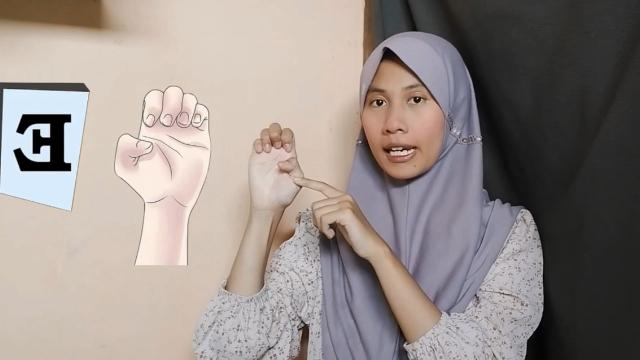E: (246, 122, 306, 218)
